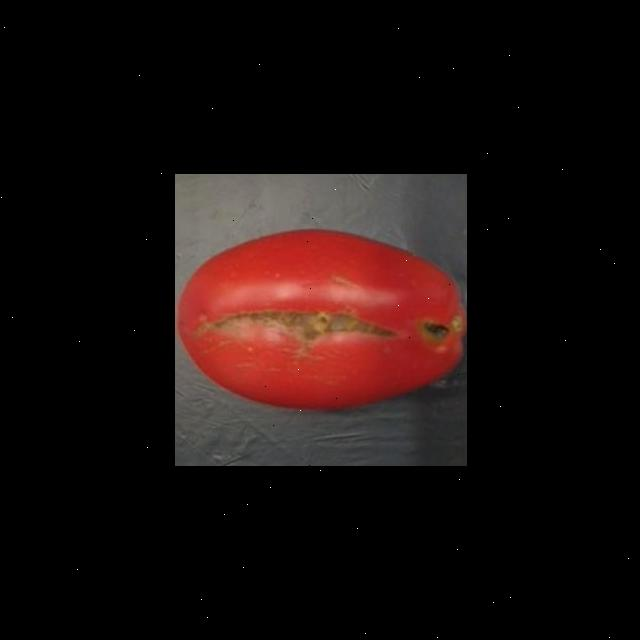tomato: (174, 224, 466, 420)
